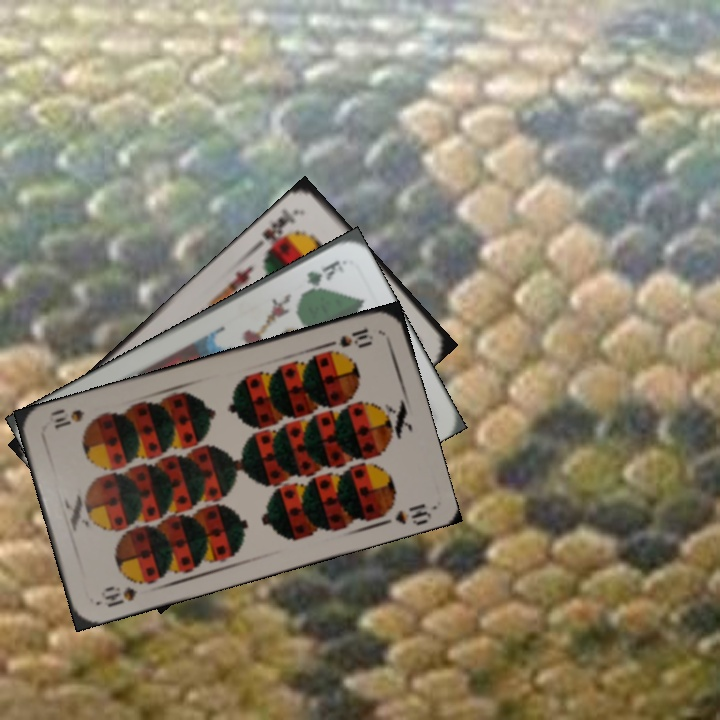GK: (302, 256, 343, 288)
S10: (322, 324, 376, 350), (100, 582, 140, 610)
SK: (258, 204, 304, 256)
